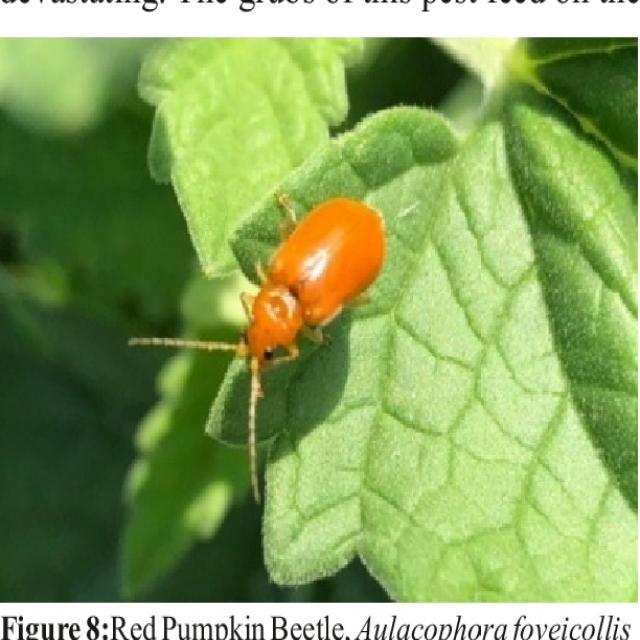Pumpkin Beetle: (118, 190, 392, 509)
